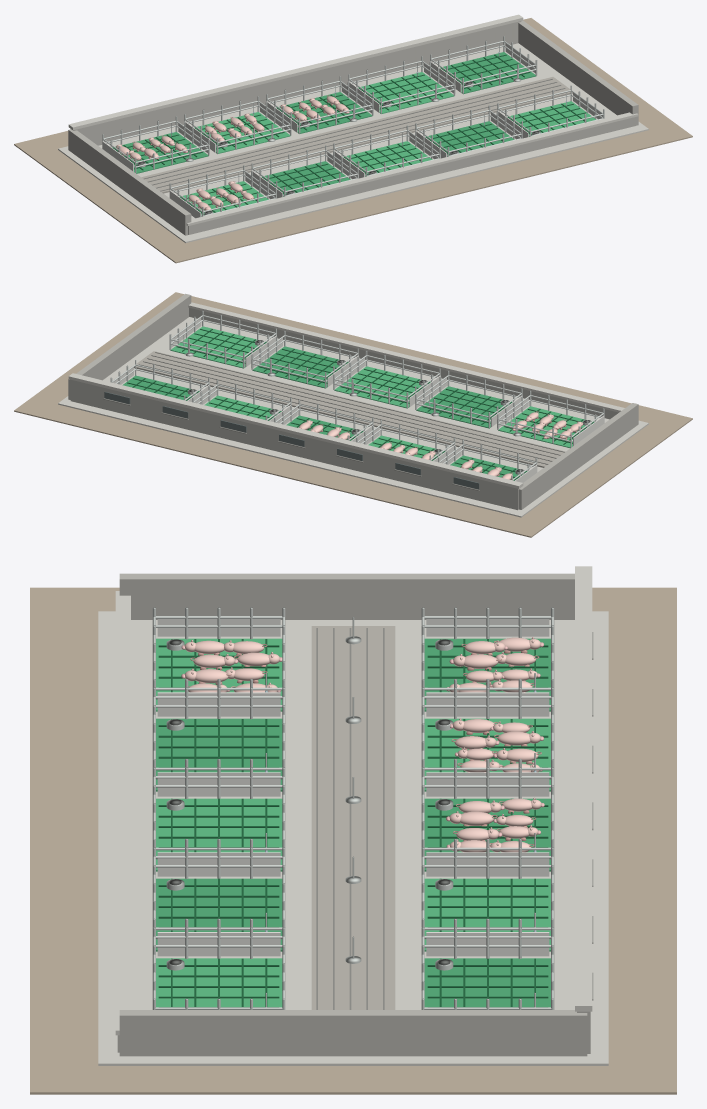
The model's file is pre_destete.glb.
3 views of the same model, one above another, from view 1: azimuth 30°, elevation 25°; view 2: azimuth 150°, elevation 25°; view 3: azimuth 270°, elevation 25° (orthographic). The views are drawn at different scales.
Visible parts, largest first — view 1: outside-yard, back-wall, central-walkway, inside-floor, concrete-base, front-wall-low, back-wall-cap, left-wall, right-wall, front-curb-cap, pre-destete-corral-4-floor, pre-destete-corral-5-floor (+12 smaller); view 2: outside-yard, back-wall, central-walkway, inside-floor, concrete-base, back-wall-cap, front-wall-low, left-wall, front-curb-cap, right-wall, pre-destete-corral-9-floor, pre-destete-corral-8-floor (+13 smaller); view 3: outside-yard, inside-floor, central-walkway, right-wall, concrete-base, left-wall, back-wall-cap, front-curb-cap, pre-destete-corral-7-floor, pre-destete-corral-8-floor, pre-destete-corral-4-floor, pre-destete-corral-9-floor (+17 smaller).
Boxes of the visible parts, bbox=[...] form: outside-yard: bbox=[14, 18, 692, 263]; back-wall: bbox=[73, 21, 521, 145]; central-walkway: bbox=[141, 77, 572, 193]; inside-floor: bbox=[98, 44, 613, 219]; concrete-base: bbox=[58, 43, 648, 243]; front-wall-low: bbox=[188, 117, 635, 234]; back-wall-cap: bbox=[68, 14, 523, 130]; left-wall: bbox=[68, 129, 191, 235]; right-wall: bbox=[518, 20, 638, 125]; front-curb-cap: bbox=[186, 112, 638, 225]; pre-destete-corral-4-floor: bbox=[358, 72, 454, 113]; pre-destete-corral-5-floor: bbox=[440, 52, 536, 94]; outside-yard: bbox=[14, 292, 692, 537]; back-wall: bbox=[70, 380, 518, 510]; central-walkway: bbox=[134, 351, 565, 467]; inside-floor: bbox=[106, 318, 608, 472]; concrete-base: bbox=[58, 317, 648, 517]; back-wall-cap: bbox=[68, 373, 523, 488]; front-wall-low: bbox=[189, 308, 618, 419]; left-wall: bbox=[518, 403, 638, 509]; front-curb-cap: bbox=[188, 302, 624, 412]; right-wall: bbox=[68, 293, 191, 399]; pre-destete-corral-9-floor: bbox=[252, 346, 348, 388]; pre-destete-corral-8-floor: bbox=[334, 366, 430, 408]; outside-yard: bbox=[30, 587, 676, 1094]; inside-floor: bbox=[131, 623, 574, 1009]; central-walkway: bbox=[311, 626, 395, 1009]; right-wall: bbox=[119, 1010, 587, 1056]; concrete-base: bbox=[98, 611, 608, 1065]; left-wall: bbox=[119, 573, 574, 619]; back-wall-cap: bbox=[575, 566, 592, 1011]; front-curb-cap: bbox=[115, 591, 130, 1035]; pre-destete-corral-7-floor: bbox=[156, 718, 282, 791]; pre-destete-corral-8-floor: bbox=[156, 798, 282, 871]; pre-destete-corral-4-floor: bbox=[424, 878, 550, 951]; pre-destete-corral-9-floor: bbox=[156, 878, 282, 951].
Size of the model in its own units: 48 by 2.88 by 26.
